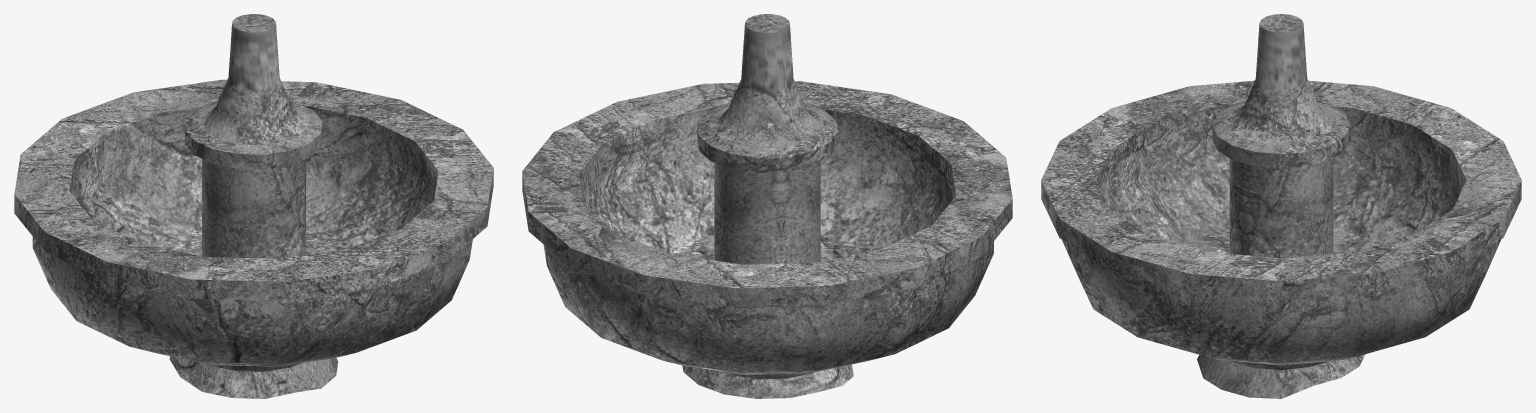
File: materials_3_rubble_18.fbx
The picture shows the model from 3 angles, left to right: view 1: azimuth 30°, elevation 25°; view 2: azimuth 150°, elevation 25°; view 3: azimuth 270°, elevation 25°; orthographic projection. The views are drawn at different scales.
Visible parts, largest first — view 1: materials_3_rubble_18; view 2: materials_3_rubble_18; view 3: materials_3_rubble_18.
Part boxes in pixels (left/top/right/bottom): materials_3_rubble_18: left=14, top=14, right=493, bottom=398; materials_3_rubble_18: left=522, top=14, right=1012, bottom=398; materials_3_rubble_18: left=1041, top=14, right=1521, bottom=398.
Bounding box in the file's own units: 86.8 × 69.51 × 86.8.
